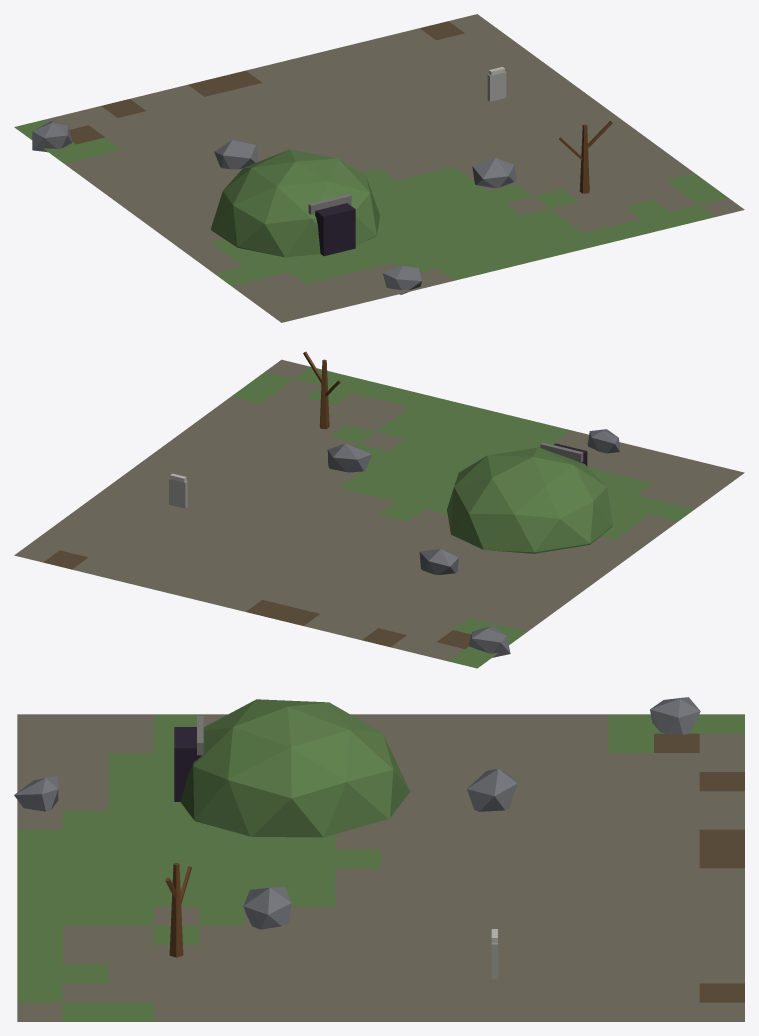
The model's file is chunk_2_19.glb.
3 renders of one model, top to bottom at view 1: azimuth 30°, elevation 25°; view 2: azimuth 150°, elevation 25°; view 3: azimuth 270°, elevation 25°, orthographic. The views are drawn at different scales.
Visible parts, largest first — view 1: chunk_2_19; view 2: chunk_2_19; view 3: chunk_2_19.
Part boxes in pixels (x1,y1,x2,y2): chunk_2_19: [14, 14, 744, 322]; chunk_2_19: [14, 351, 744, 668]; chunk_2_19: [14, 697, 744, 1021].
Size of the model in its own units: 16.25 by 4.21 by 16.07.
